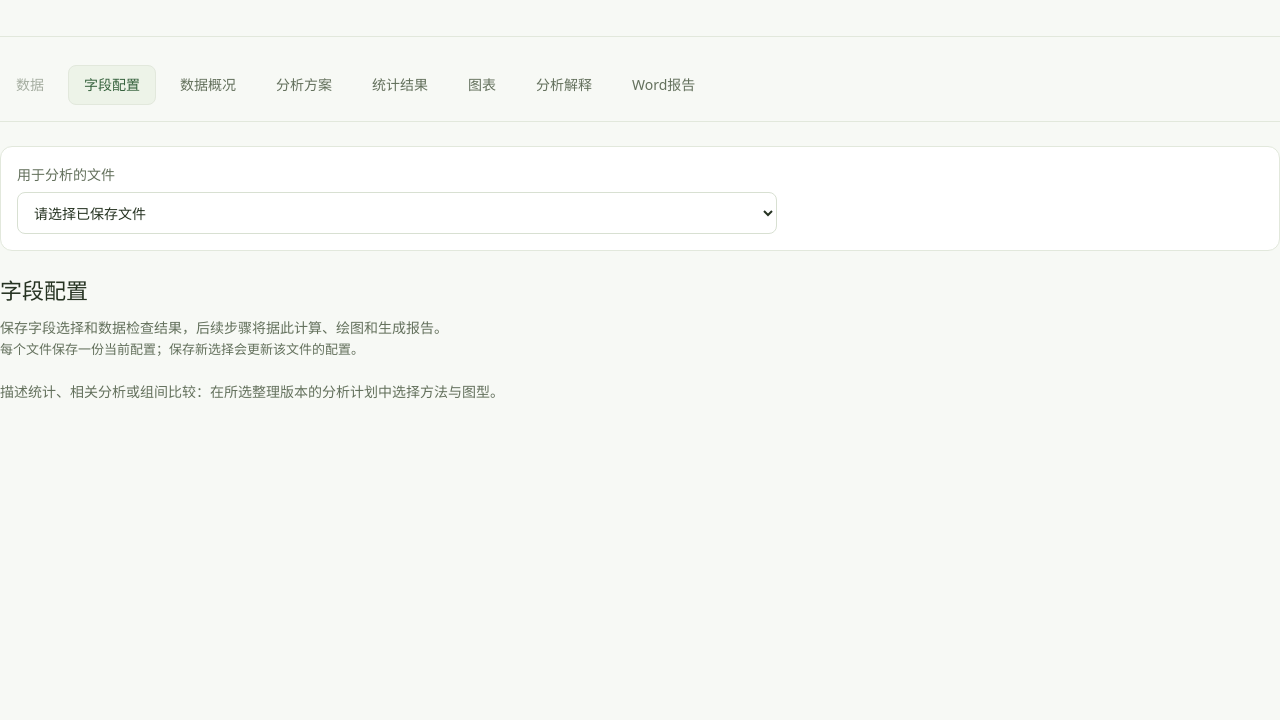
unsaved fields disable execution and label the previous result
The width and height of the screenshot is (1280, 720).
Select "研究.xlsx · 2026/9/29 01:00:00" in the dropdown labelled "用于分析的文件" at (397, 213), box [17, 192, 777, 234]
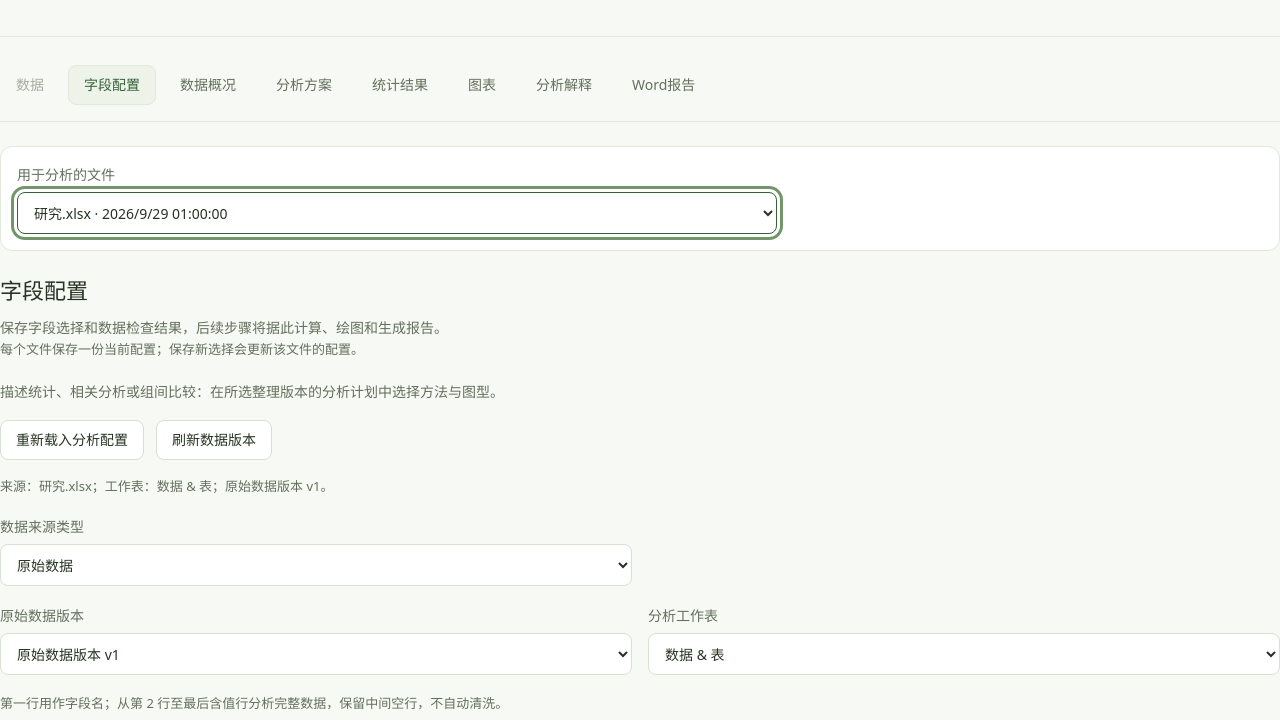
Click the button "统计结果" at (400, 85), box [356, 65, 444, 105]
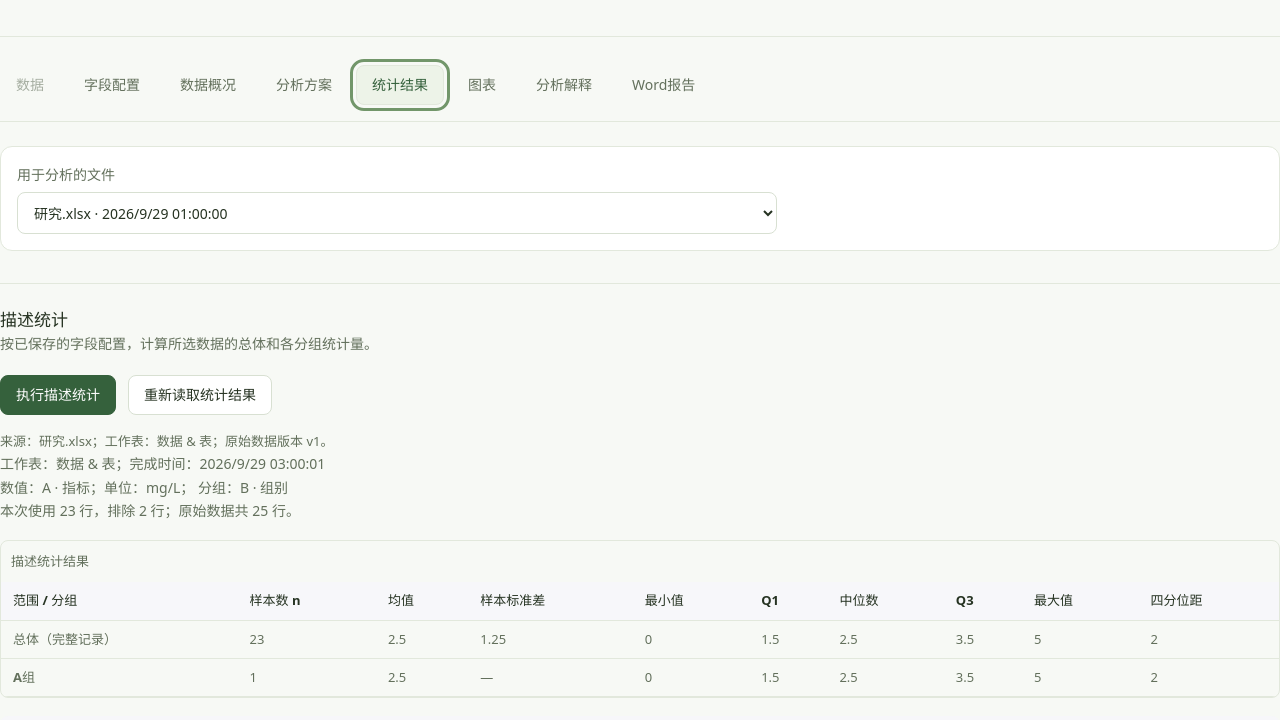
Now the table "描述统计结果" is shown, box [1, 541, 1279, 698]
Click the button "字段配置" at (112, 85), box [68, 65, 156, 105]
(page scrolled)
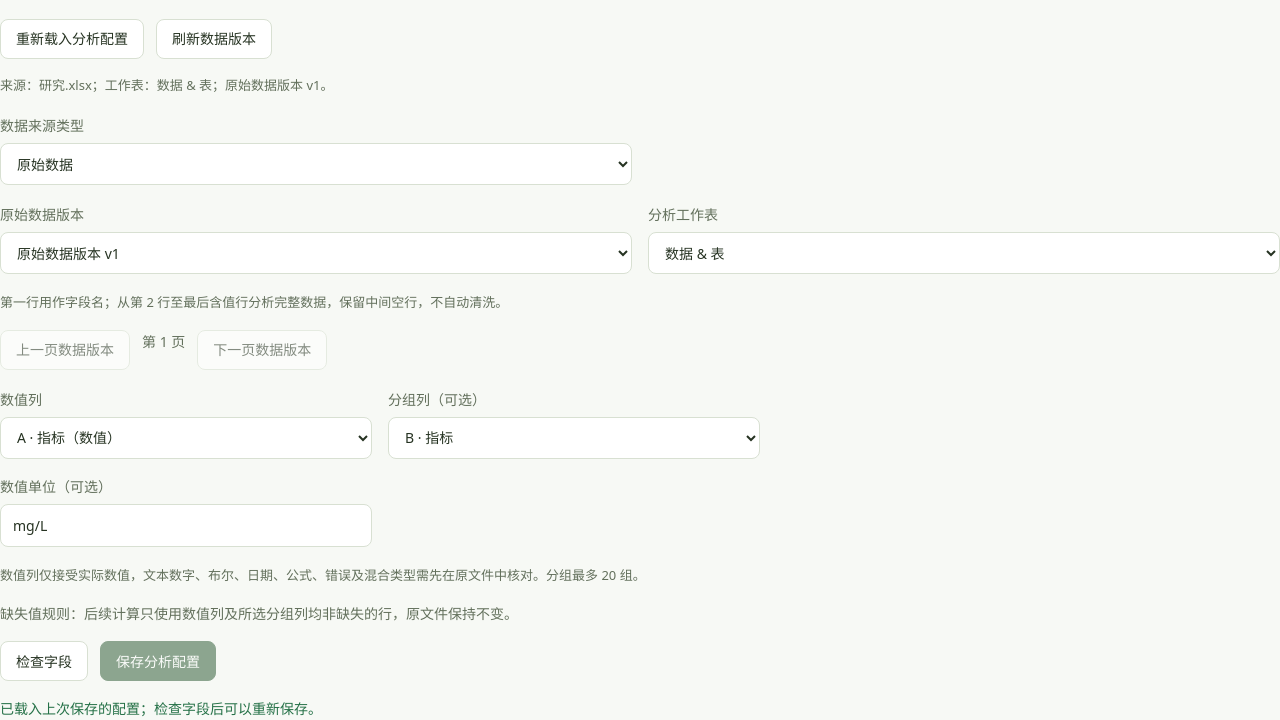
Type " changed" into the field labelled "数值单位（可选）" at (186, 525), box [0, 504, 372, 547]
(page scrolled)
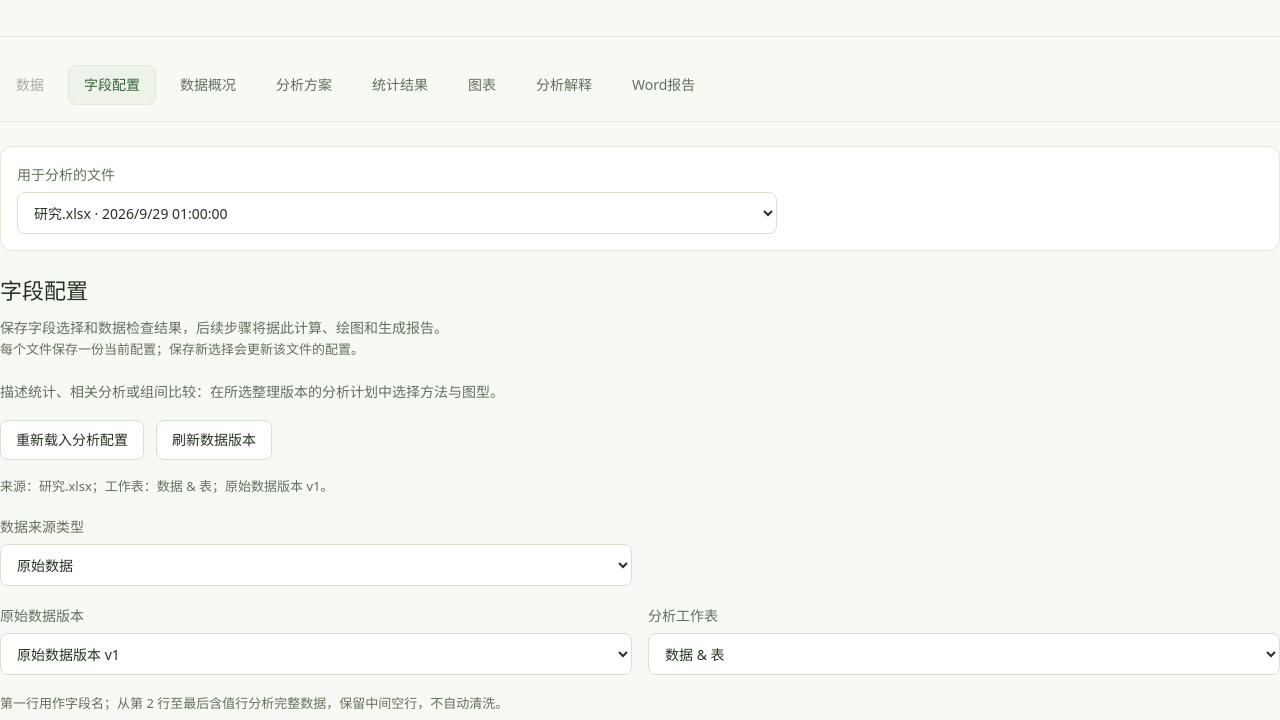
Click the button "统计结果" at (400, 85), box [356, 65, 444, 105]
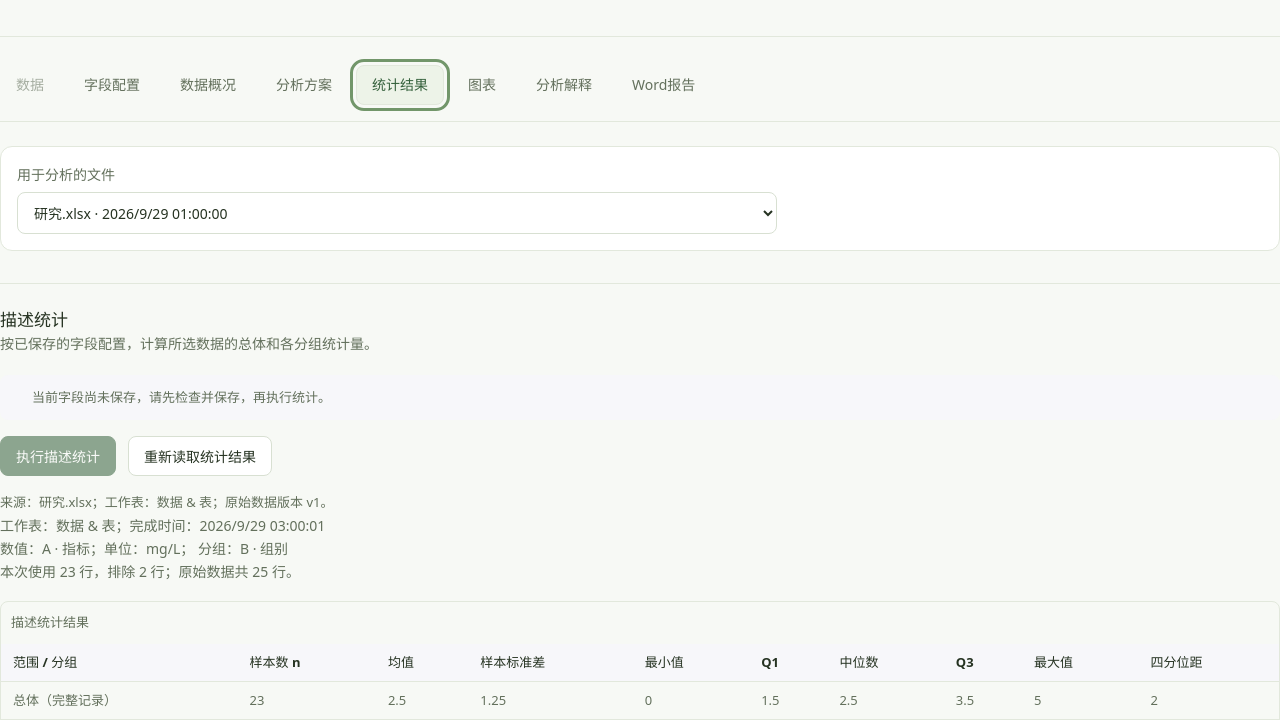
Now the button "执行描述统计" is disabled, box [0, 436, 116, 476]
Now the text "当前字段尚未保存，请先检查并保存，再执行统计。" is shown, box [0, 375, 1279, 420]
Now the text "数值：A · 指标；单位：mg/L； 分组：B · 组别" is shown, box [0, 539, 288, 558]
